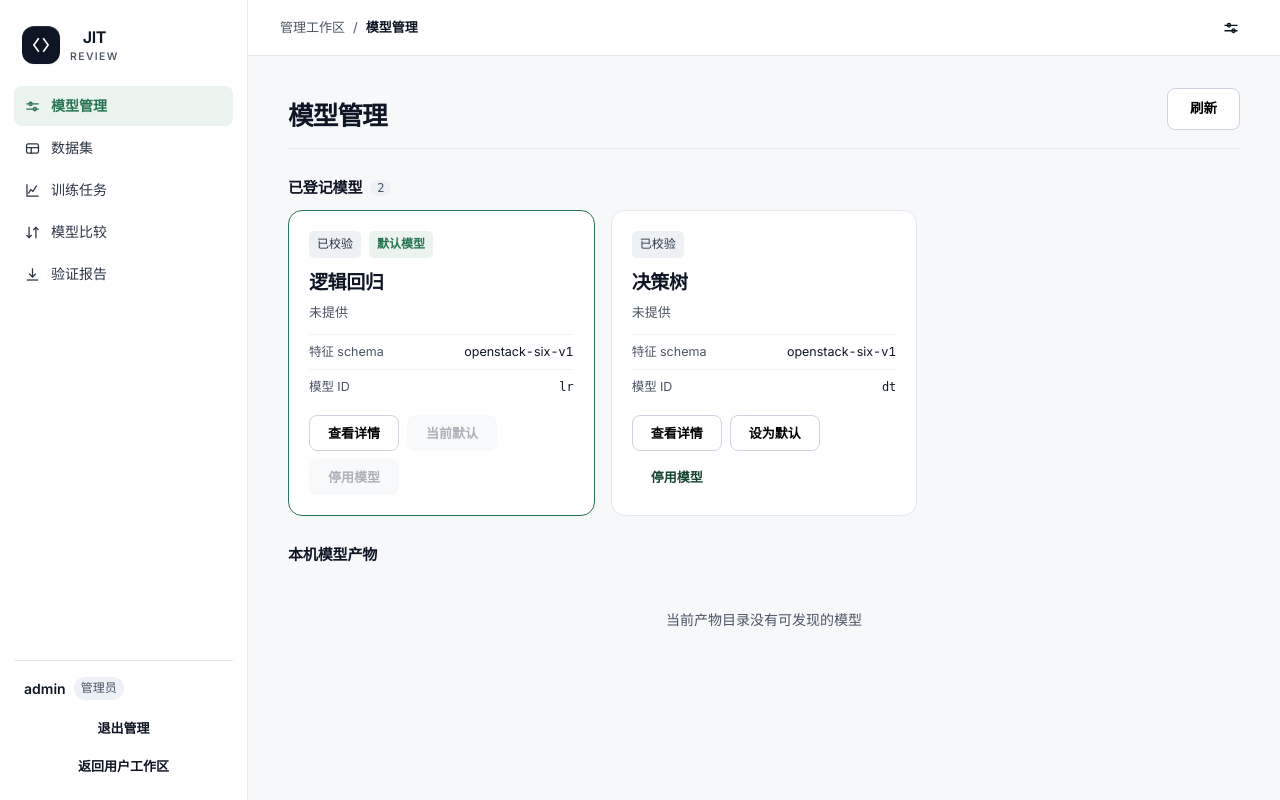
Test: switches default before allowing disable, confirms impact and refreshes saved policy
Expected: the button "停用模型" below "lr" is disabled, 309,459 -> 399,495
Click the button "设为默认" at (775, 433), box 730,415 -> 820,451
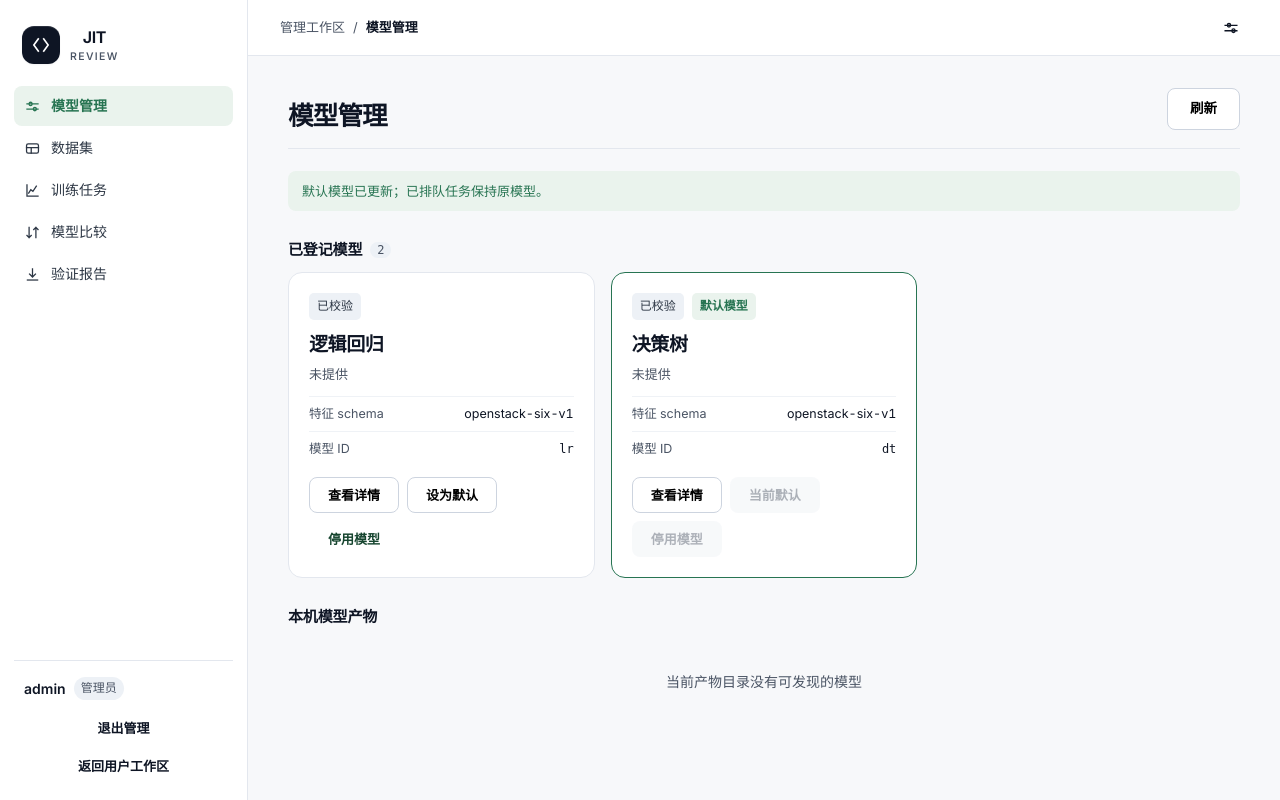
Now the button "停用模型" below "lr" is enabled
Click the button "停用模型" below "lr" at (354, 539), box 309,521 -> 399,557
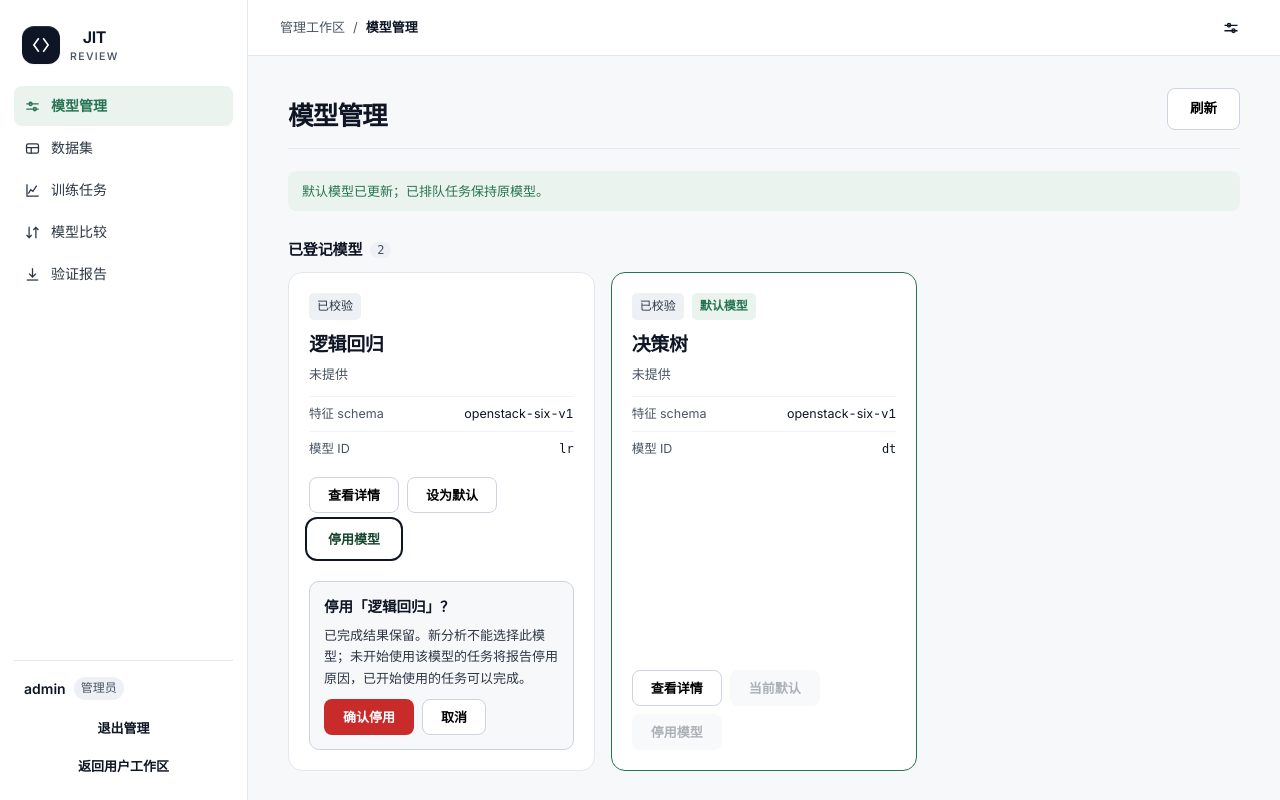
Now the text "已完成结果保留。新分析不能选择此模型；未开始使用该模型的任务将报告停用原因，已开始使用的任务可以完成。" is shown, box 324,625 -> 559,689
Click the button "取消" at (454, 717), box 422,699 -> 486,735
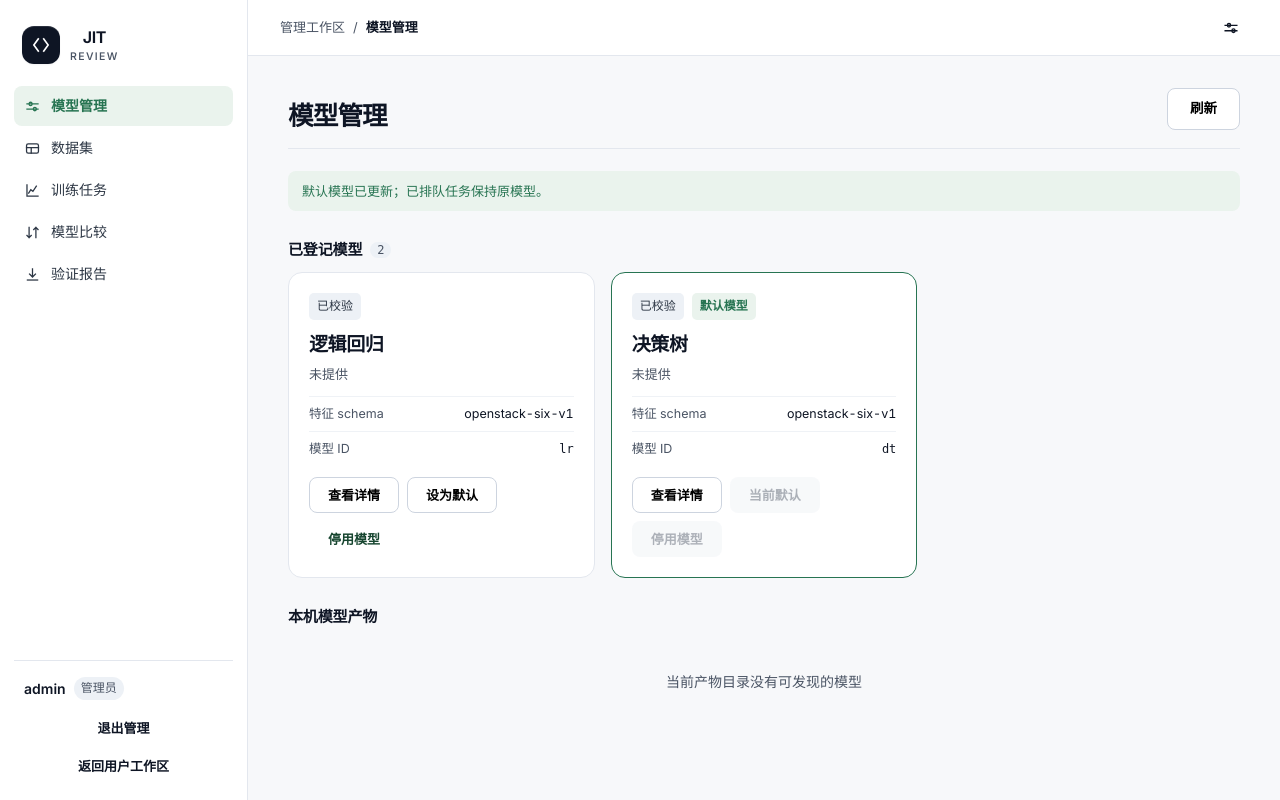
Click the button "停用模型" below "lr" at (354, 539), box 309,521 -> 399,557
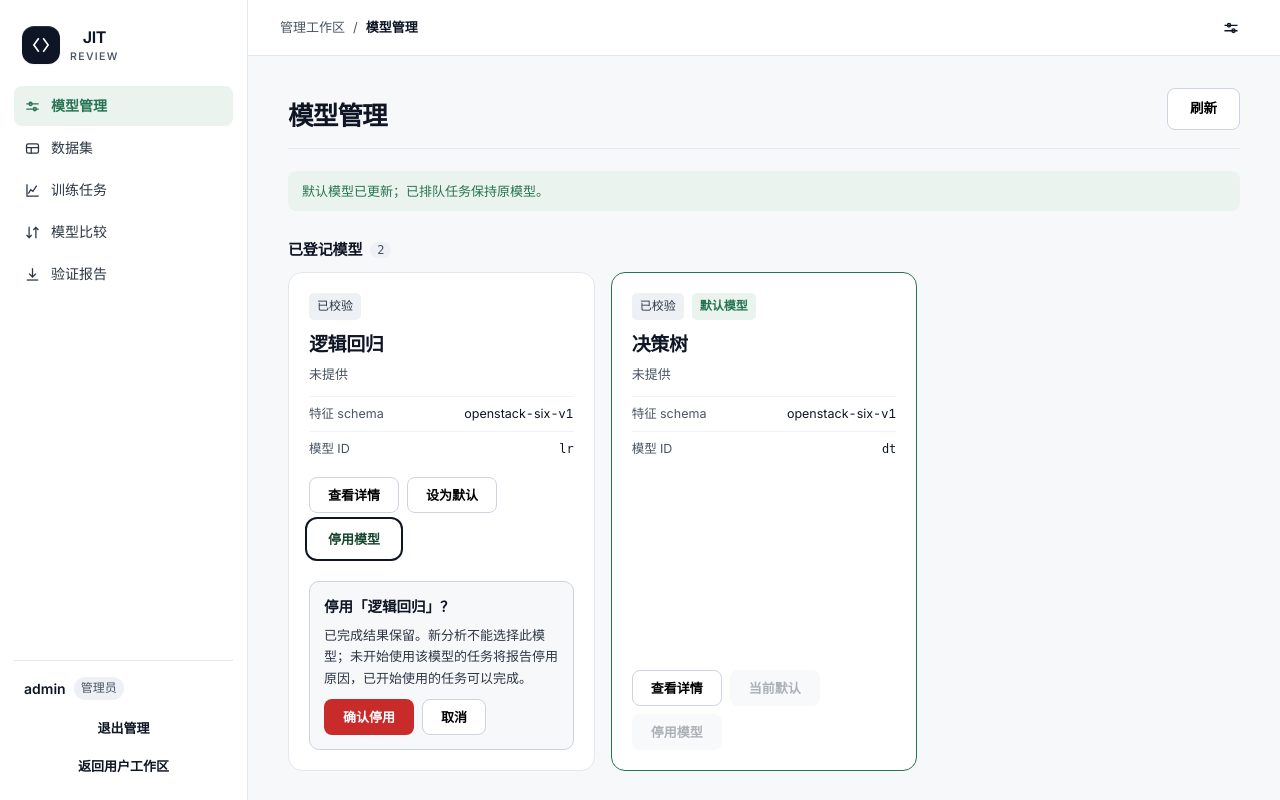
Click the button "确认停用" at (369, 717), box 324,699 -> 414,735
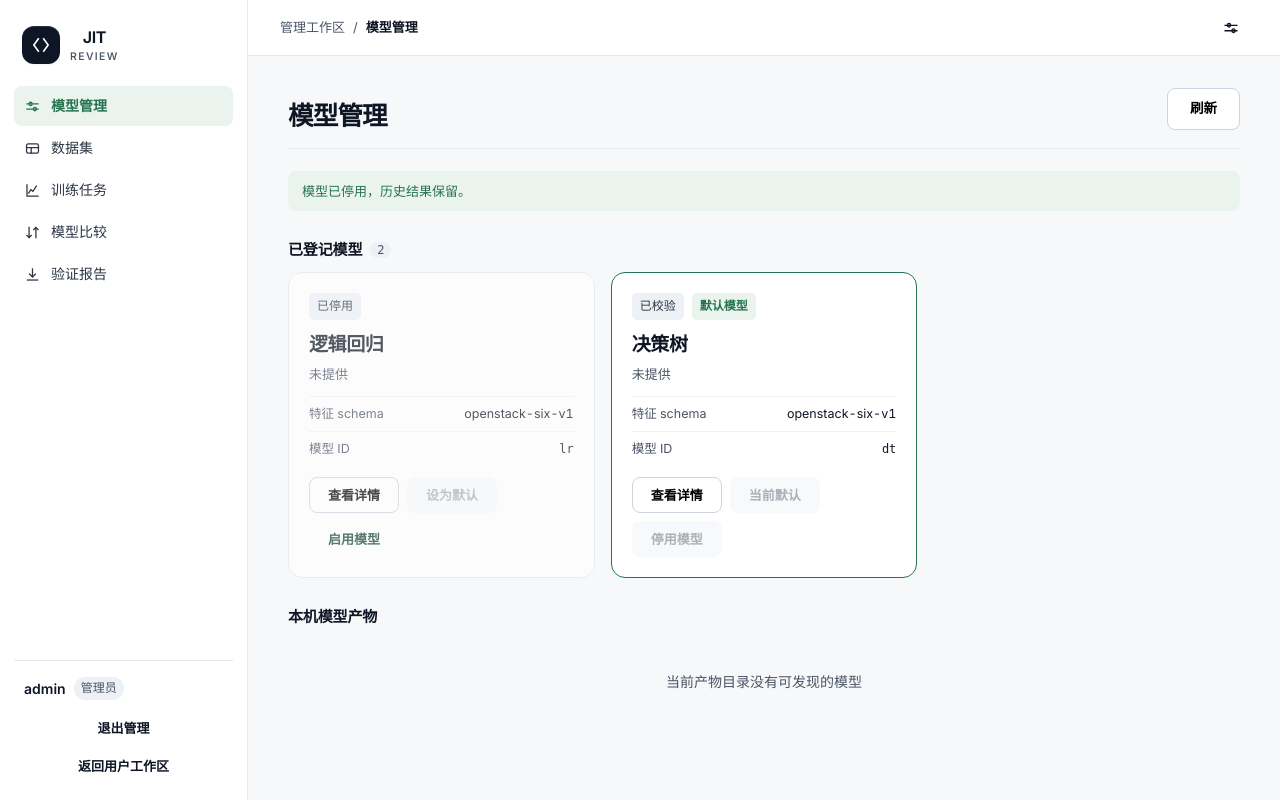
Now the button "启用模型" is shown
Click the button "启用模型" at (354, 539), box 309,521 -> 399,557
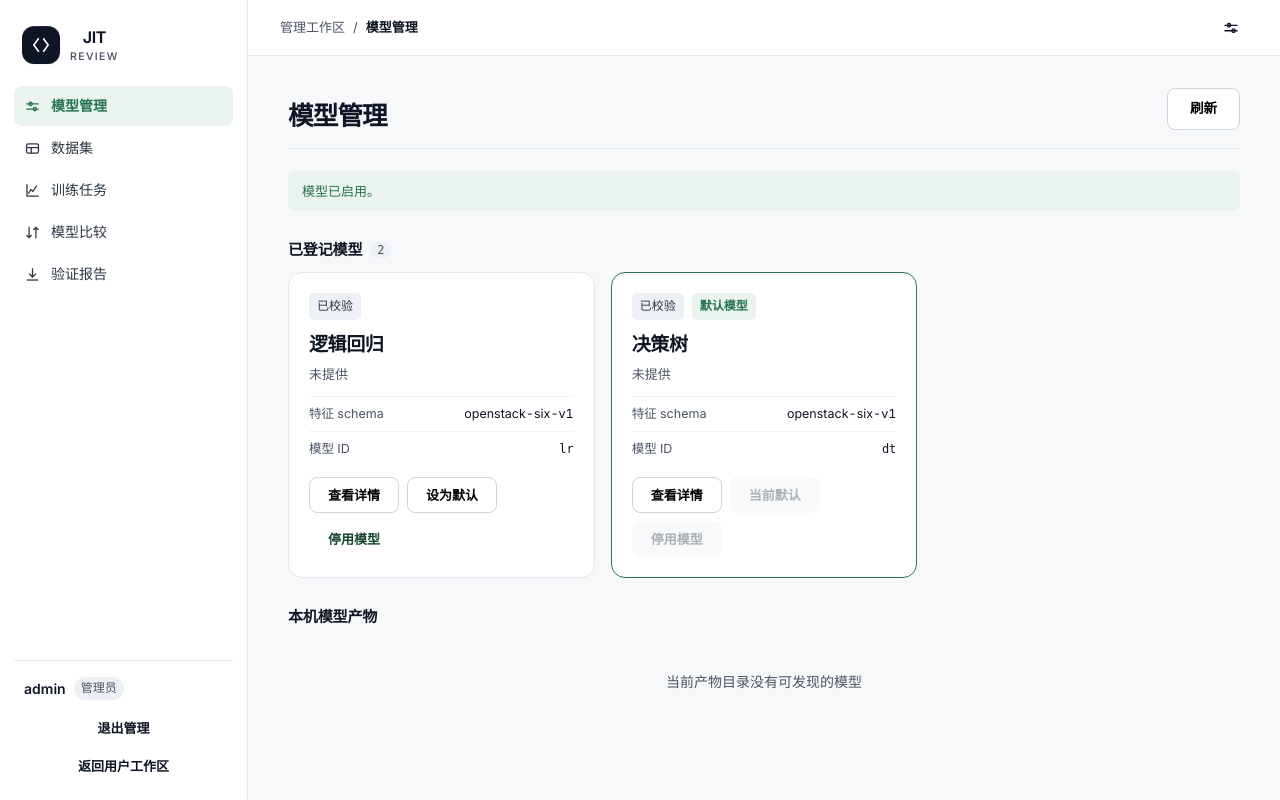
Now the button "停用模型" below "lr" is shown, box 309,521 -> 399,557
